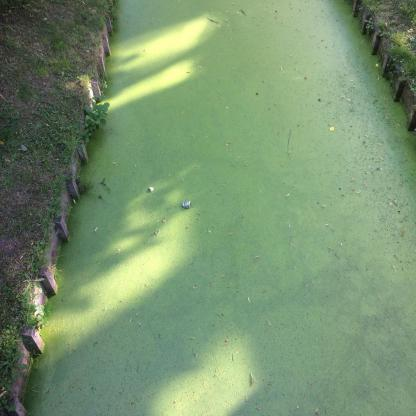metal: (182, 202, 192, 210)
